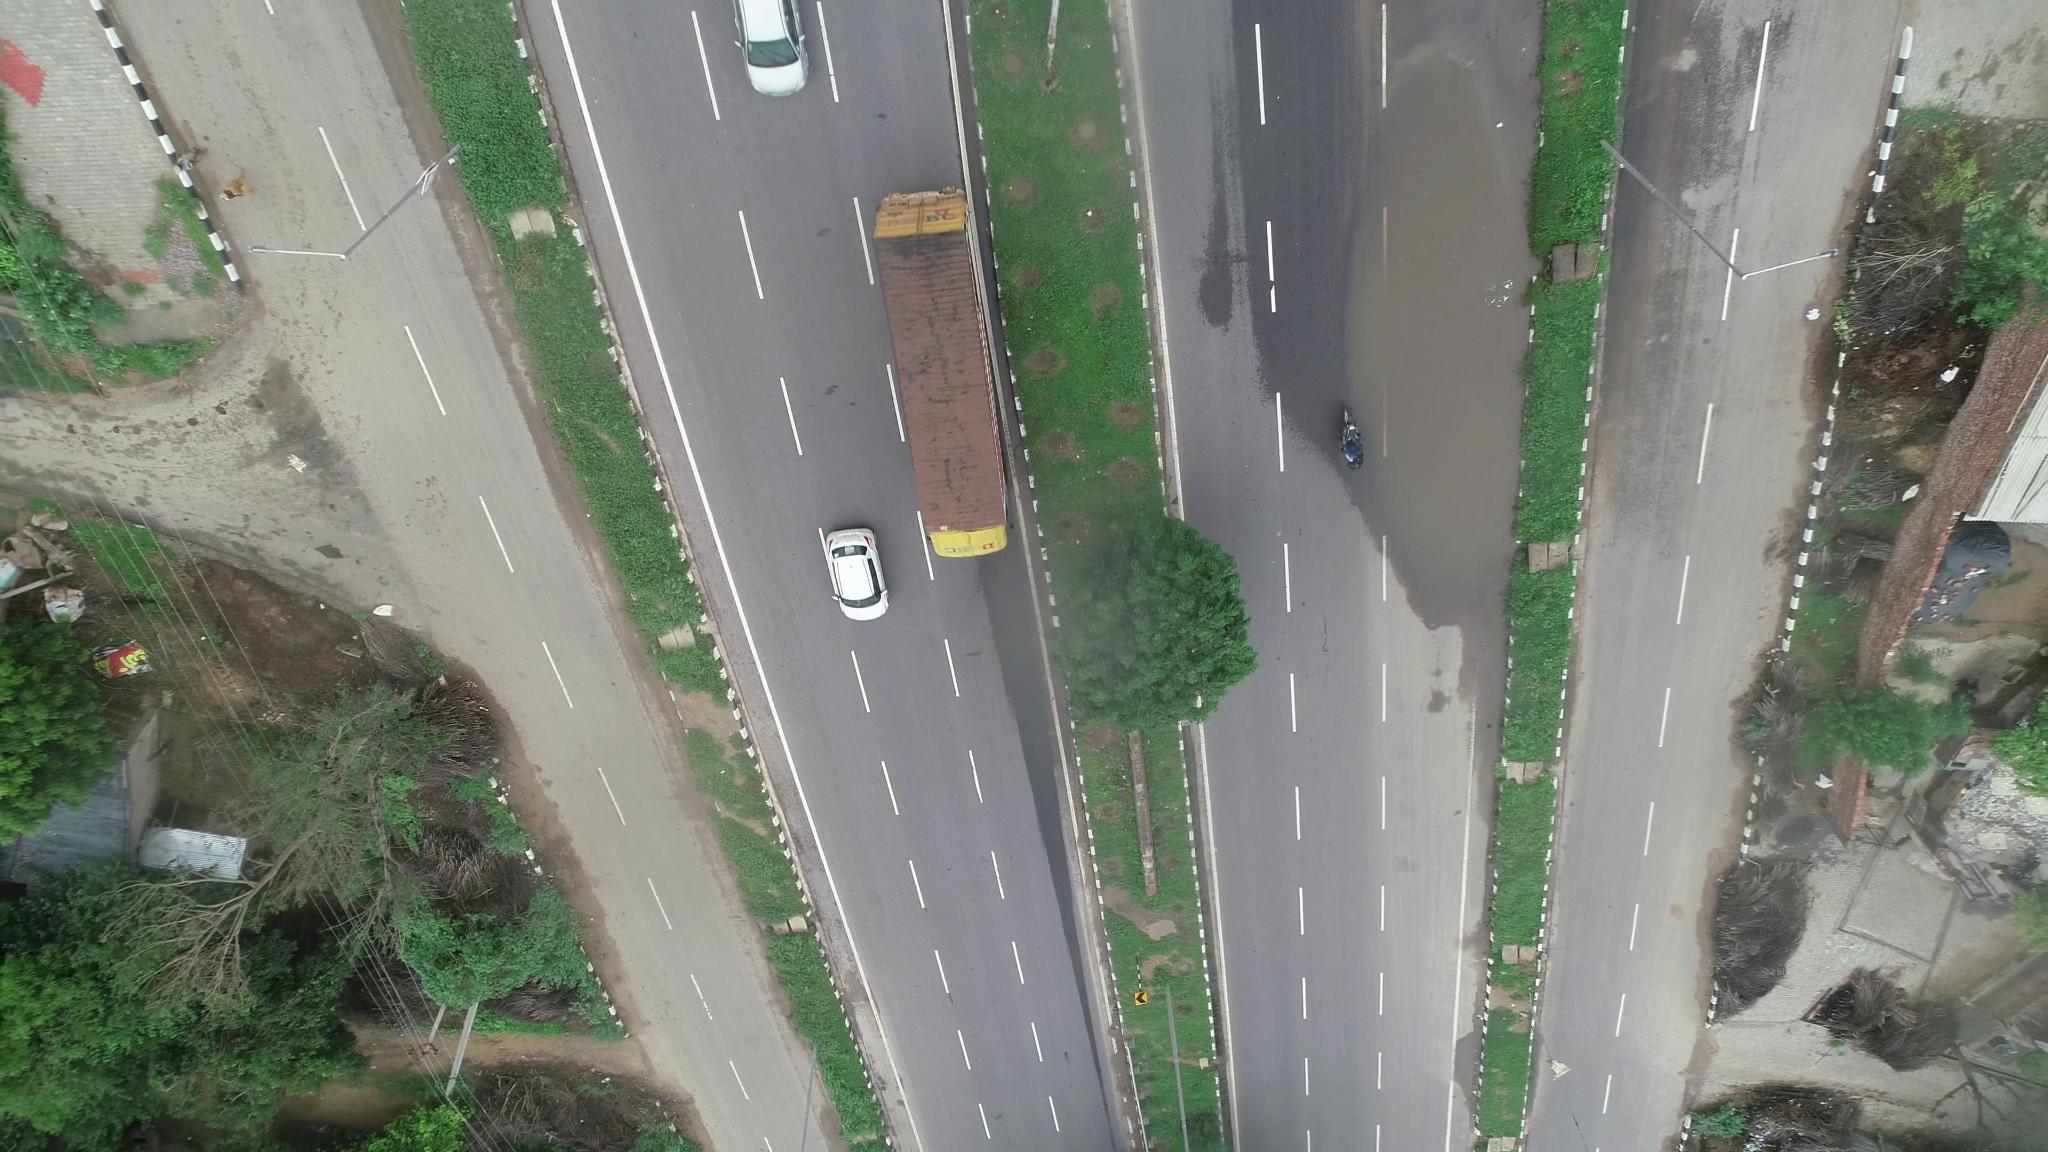Waterlogging: (1371, 38, 1528, 603)
